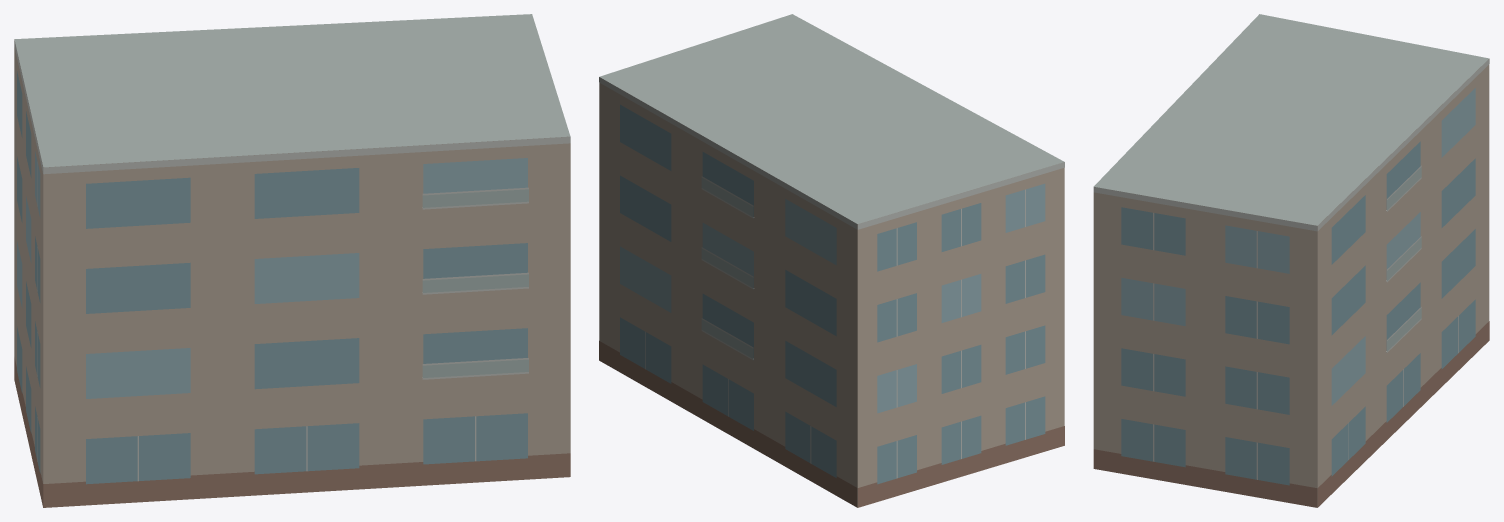
The model's file is survey-upis-32917124.glb.
3 views of the same model, side by side, from view 1: azimuth 30°, elevation 25°; view 2: azimuth 150°, elevation 25°; view 3: azimuth 270°, elevation 25° (orthographic). The views are drawn at different scales.
Visible parts, largest first — view 1: survey-upis-32917124.tmp; view 2: survey-upis-32917124.tmp; view 3: survey-upis-32917124.tmp.
Part boxes in pixels (bbox=[...]): survey-upis-32917124.tmp: bbox=[14, 14, 570, 507]; survey-upis-32917124.tmp: bbox=[599, 14, 1064, 507]; survey-upis-32917124.tmp: bbox=[1093, 14, 1489, 507].
Size of the model in its own units: 19.65 by 12.2 by 15.53.
